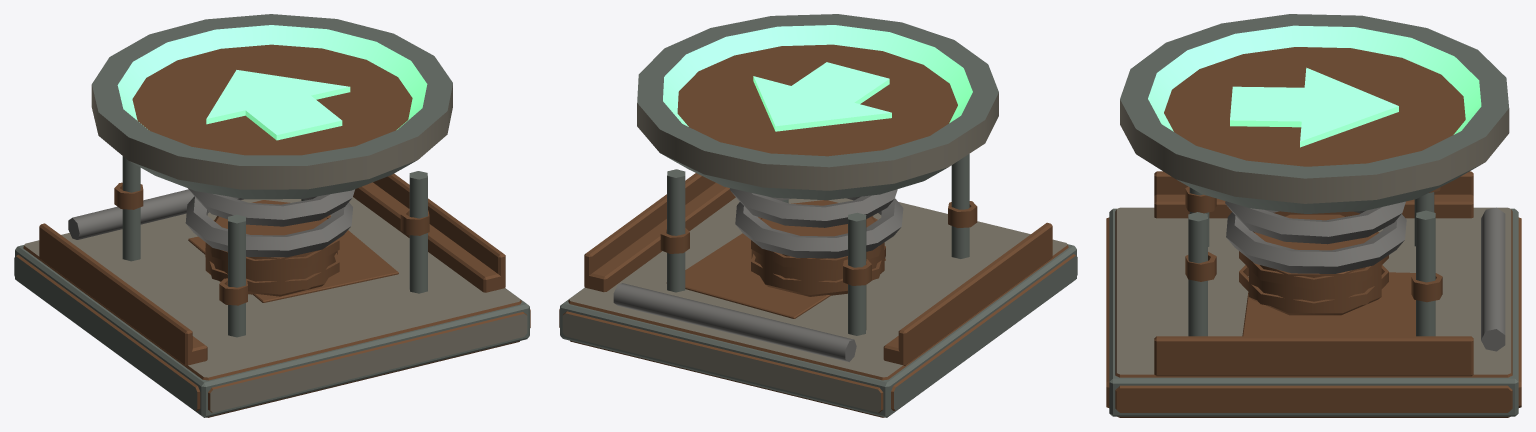
The model's file is R4X_JumpPadDeployer.fbx.
3 views of the same model, side by side, from view 1: azimuth 30°, elevation 25°; view 2: azimuth 150°, elevation 25°; view 3: azimuth 270°, elevation 25° (orthographic). The views are drawn at different scales.
Parts seen in each view (by area): view 1: R4X_JumpPadDeployer_Body, R4X_JumpPadDeployer_Pad; view 2: R4X_JumpPadDeployer_Body, R4X_JumpPadDeployer_Pad; view 3: R4X_JumpPadDeployer_Body, R4X_JumpPadDeployer_Pad.
Boxes of the visible parts, x1,y1,x2,y2 form: R4X_JumpPadDeployer_Body: (14,156,530,417); R4X_JumpPadDeployer_Pad: (91,14,452,199); R4X_JumpPadDeployer_Body: (559,154,1077,417); R4X_JumpPadDeployer_Pad: (637,14,998,200); R4X_JumpPadDeployer_Body: (1106,171,1521,417); R4X_JumpPadDeployer_Pad: (1120,14,1509,213).
Size of the model in its own units: 0.52 by 0.33 by 0.52.
